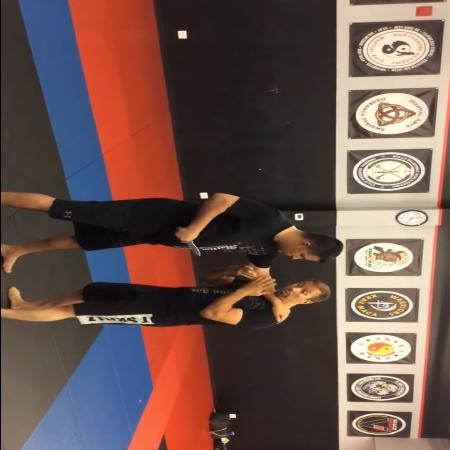long weapon: (174, 225, 205, 257)
